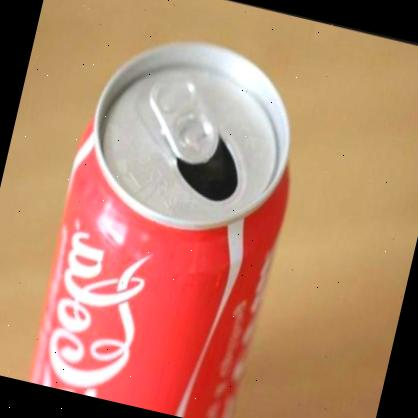can: (25, 17, 319, 418)
